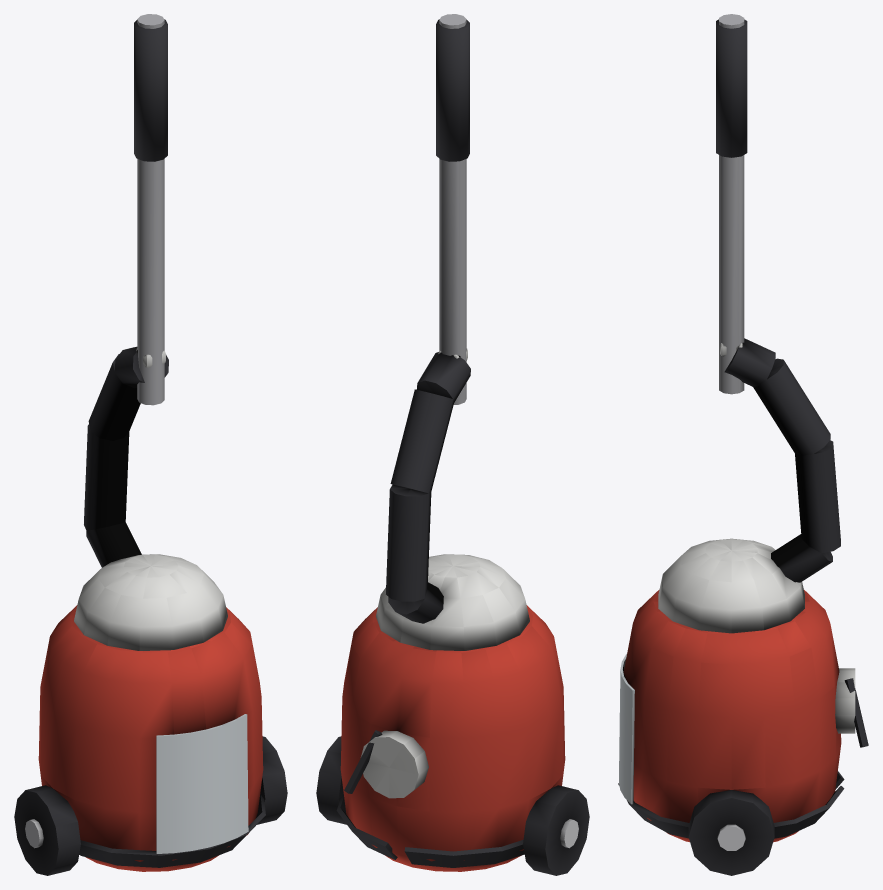
File: vacuum.glb
The picture shows the model from 3 angles, left to right: view 1: azimuth 30°, elevation 25°; view 2: azimuth 150°, elevation 25°; view 3: azimuth 270°, elevation 25°; orthographic projection. The views are drawn at different scales.
Parts seen in each view (by area): view 1: canister, motor, filter_window, wand, wand_grip, wheel_-1, hose_1, bumper, hose_2, wheel_1, hose_0, hose_3; view 2: canister, motor, wand, hose_1, wand_grip, wheel_-1, hose_2, reel, bumper, hose_3, wheel_1, hose_0 (+1 smaller); view 3: canister, motor, wand, wheel_1, wand_grip, hose_1, hose_2, filter_window, bumper, hose_0, hose_3, reel (+2 smaller).
Boxes of the visible parts, <box> form: canister: <box>38,605,263,871</box>; motor: <box>74,554,227,650</box>; filter_window: <box>156,714,248,853</box>; wand: <box>137,14,164,405</box>; wand_grip: <box>134,19,167,161</box>; wheel_-1: <box>14,785,80,875</box>; hose_1: <box>84,424,129,530</box>; bumper: <box>79,794,265,867</box>; hose_2: <box>88,354,140,440</box>; wheel_1: <box>257,736,287,824</box>; hose_0: <box>86,522,141,567</box>; hose_3: <box>114,346,168,388</box>; canister: <box>340,605,565,871</box>; motor: <box>376,554,529,650</box>; wand: <box>439,14,466,404</box>; hose_1: <box>386,484,431,601</box>; wand_grip: <box>436,19,469,161</box>; wheel_-1: <box>523,785,589,875</box>; hose_2: <box>390,389,453,493</box>; reel: <box>360,730,428,798</box>; bumper: <box>336,794,524,867</box>; hose_3: <box>416,352,470,402</box>; wheel_1: <box>316,736,346,824</box>; hose_0: <box>388,582,443,623</box>; canister: <box>623,590,841,842</box>; motor: <box>658,538,804,633</box>; wand: <box>719,14,744,394</box>; wheel_1: <box>688,790,774,875</box>; wand_grip: <box>716,19,747,157</box>; hose_1: <box>795,440,840,553</box>; hose_2: <box>753,358,830,455</box>; filter_window: <box>619,654,634,804</box>; bumper: <box>618,771,844,838</box>; hose_0: <box>771,534,832,582</box>; hose_3: <box>724,338,775,386</box>; reel: <box>835,668,855,733</box>.
Size of the model in its own units: 0.34 by 1.13 by 0.3199.
